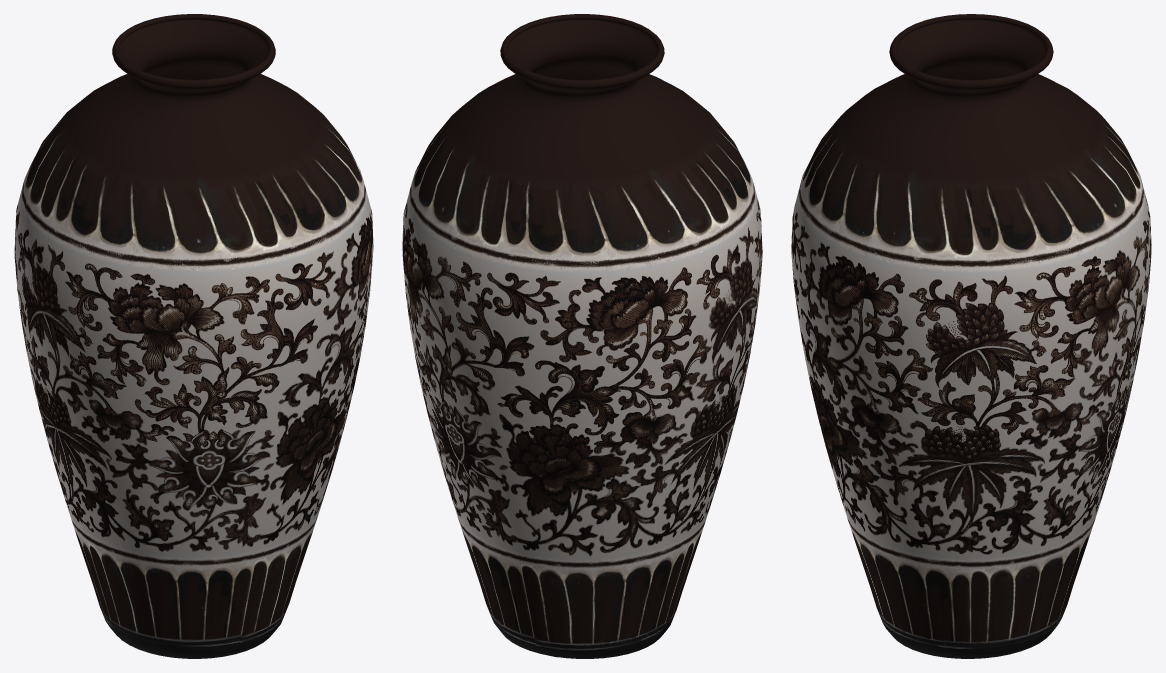
File: song_noir_chinese_shaped_vase.glb
3 renders of one model, left to right at view 1: azimuth 30°, elevation 25°; view 2: azimuth 150°, elevation 25°; view 3: azimuth 270°, elevation 25°, orthographic.
Parts seen in each view (by area): view 1: Cylinder006; view 2: Cylinder006; view 3: Cylinder006.
Boxes of the visible parts, box(x1,y1,x2,y2) form: Cylinder006: box(14, 14, 373, 658); Cylinder006: box(402, 14, 762, 658); Cylinder006: box(791, 14, 1151, 658).
Size of the model in its own units: 0.3075 by 0.5486 by 0.3075.
Materials: 1 (1 with a texture image).
